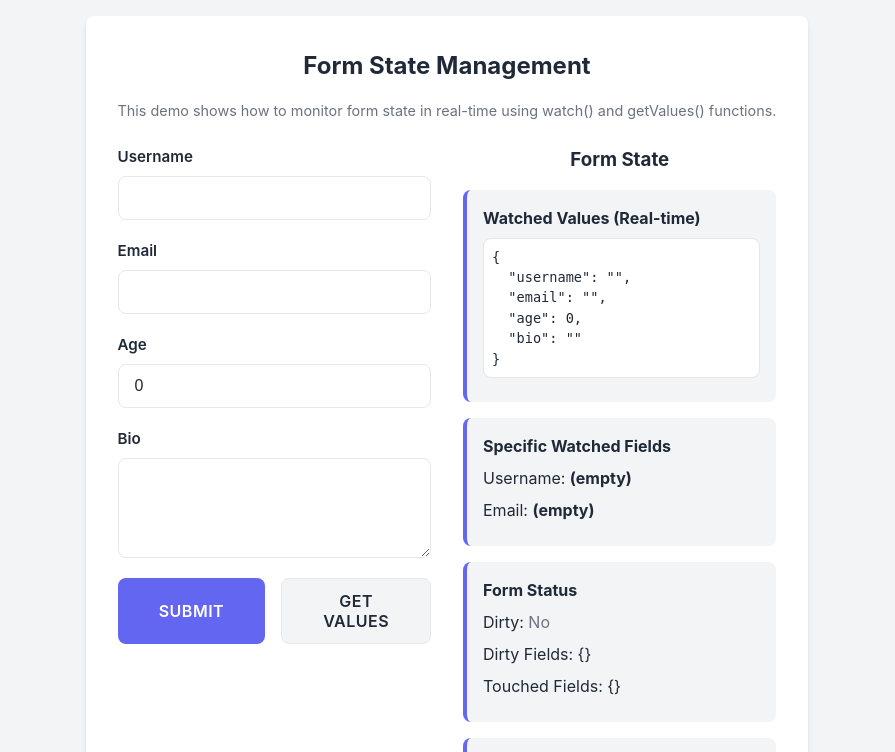
WatchDemo › shows validation error for minimum username length
In the field labelled "Username": x=274, y=198 [118,176,431,220], type "ab"
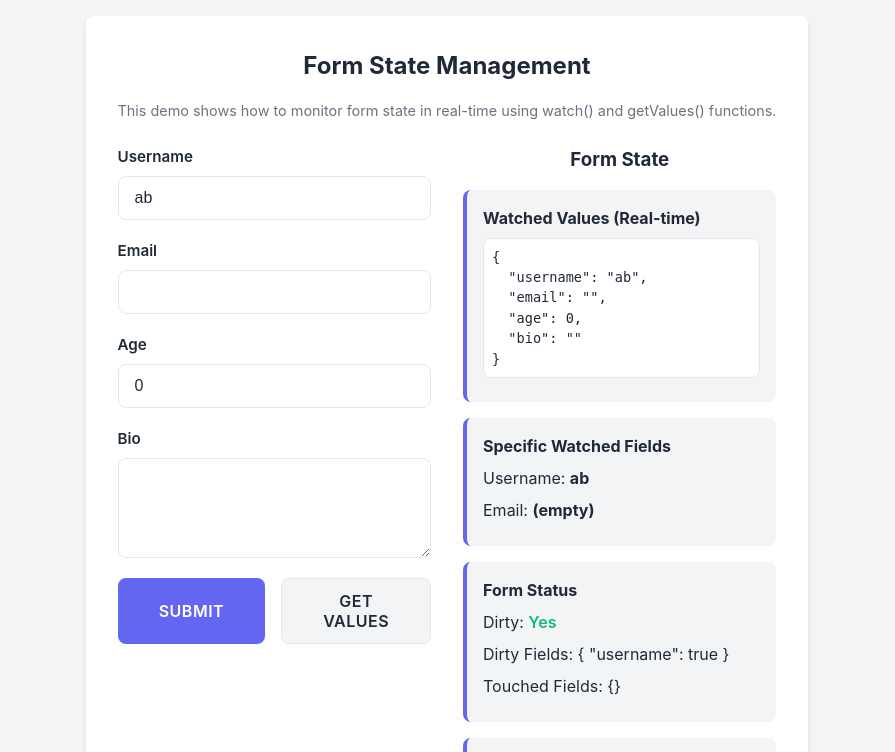
Leave the field labelled "Username", box [118,176,431,220]
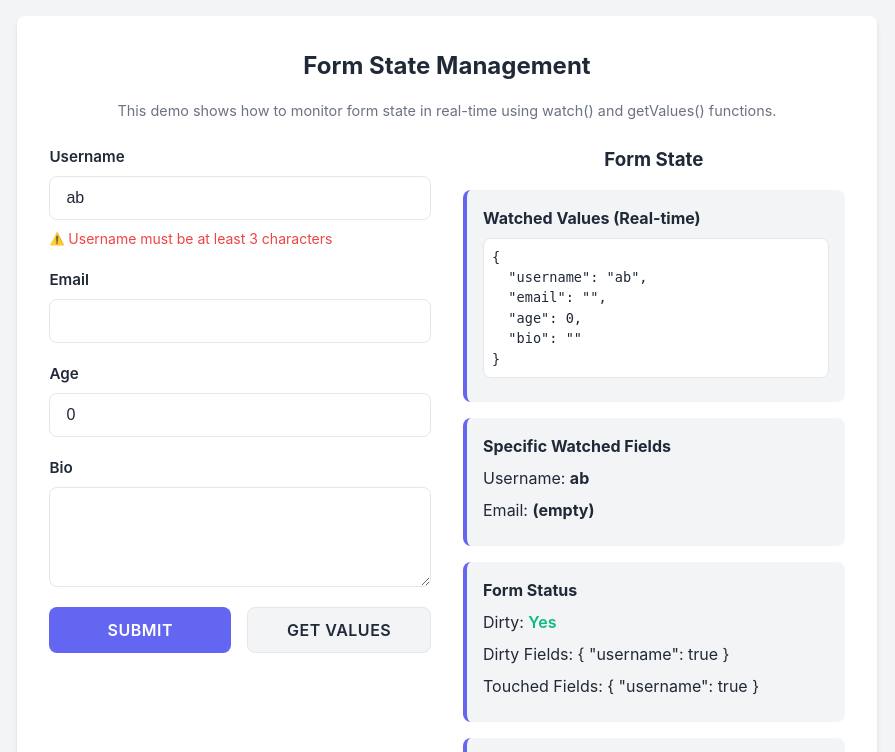
expect the text "Username must be at least 3 characters" is shown: met, box [68,230,332,247]
